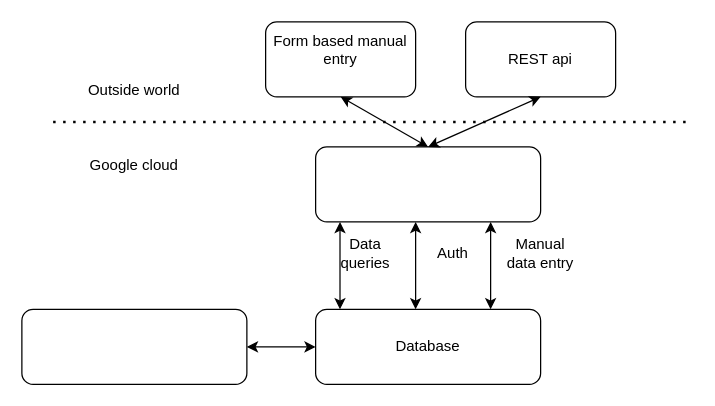
The diagram is 715 pixels wide and 406 high, and some of its shapes have lost their labels. The shapes that lost their labels are listed below. From the top down, each one's centre as x and y in pixels, then its label:
At point (427, 184): "Thin api layer (flask)".
At point (134, 346): "Scraper - populates database".
